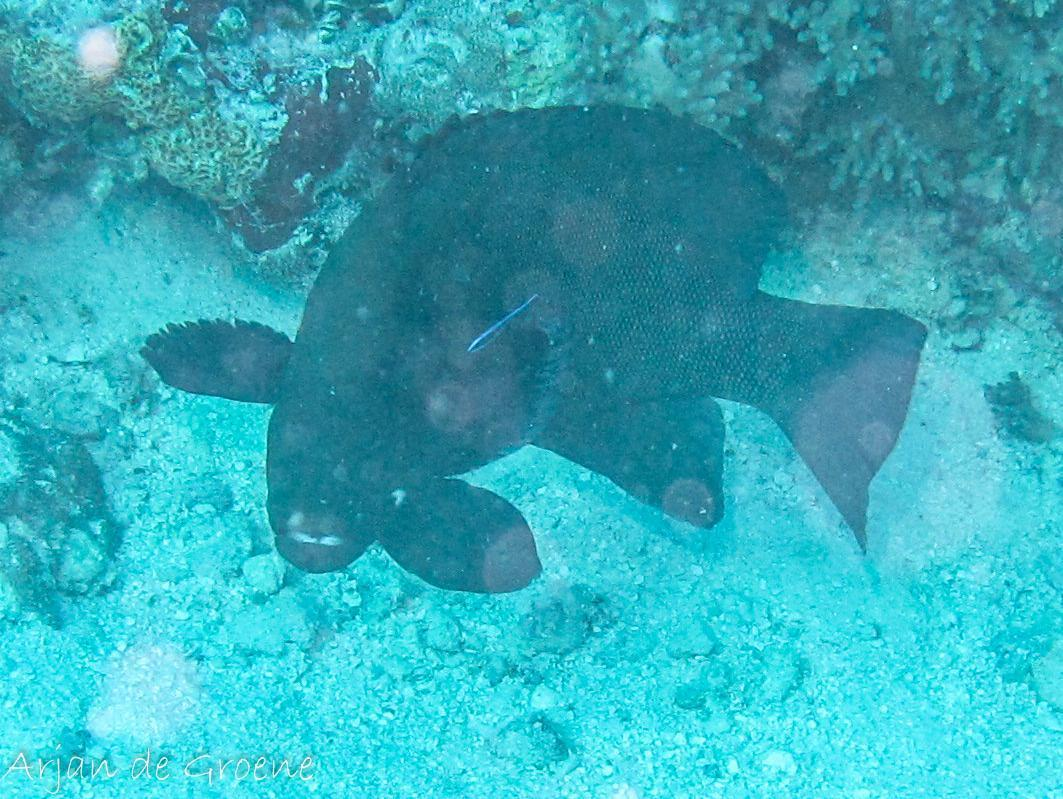Fish: (88, 98, 967, 701)
